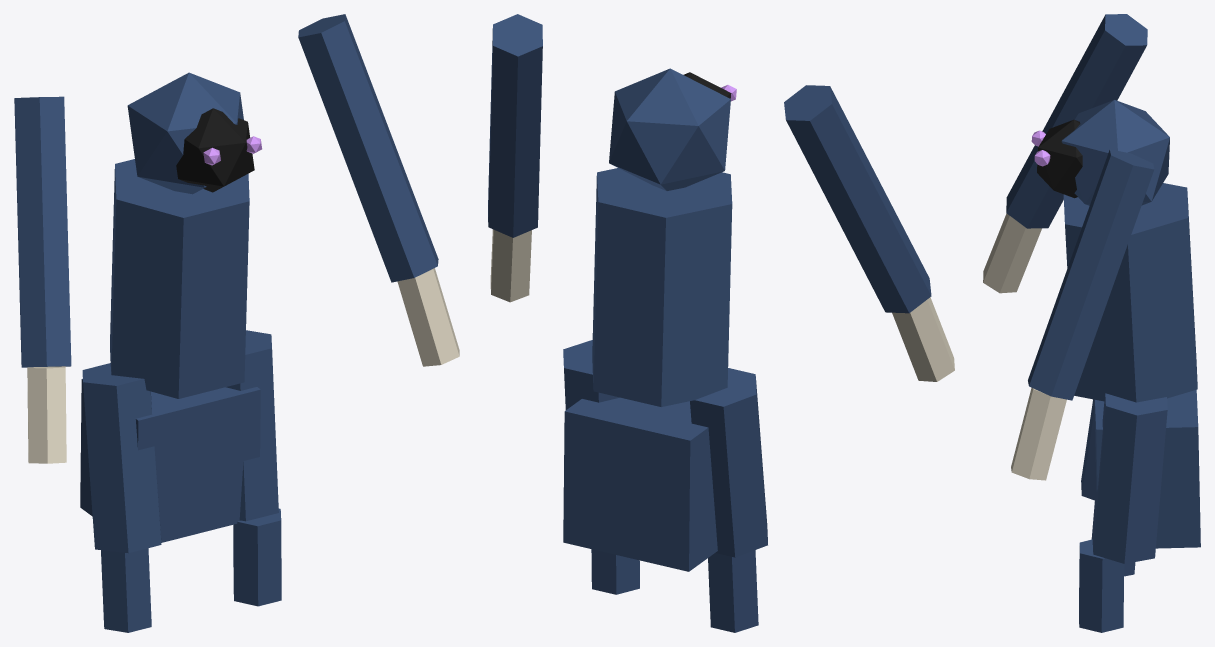
The model's file is npcpose_wraith_idle_02.glb.
3 views of the same model, side by side, from view 1: azimuth 30°, elevation 25°; view 2: azimuth 150°, elevation 25°; view 3: azimuth 270°, elevation 25° (orthographic). The views are drawn at different scales.
Visible parts, largest first — view 1: npcpose; view 2: npcpose; view 3: npcpose.
Part boxes in pixels (x1,y1,x2,y2): npcpose: (14,14,459,632); npcpose: (488,14,954,632); npcpose: (983,14,1200,632).
Size of the model in its own units: 0.9379 by 1.11 by 0.4264.
